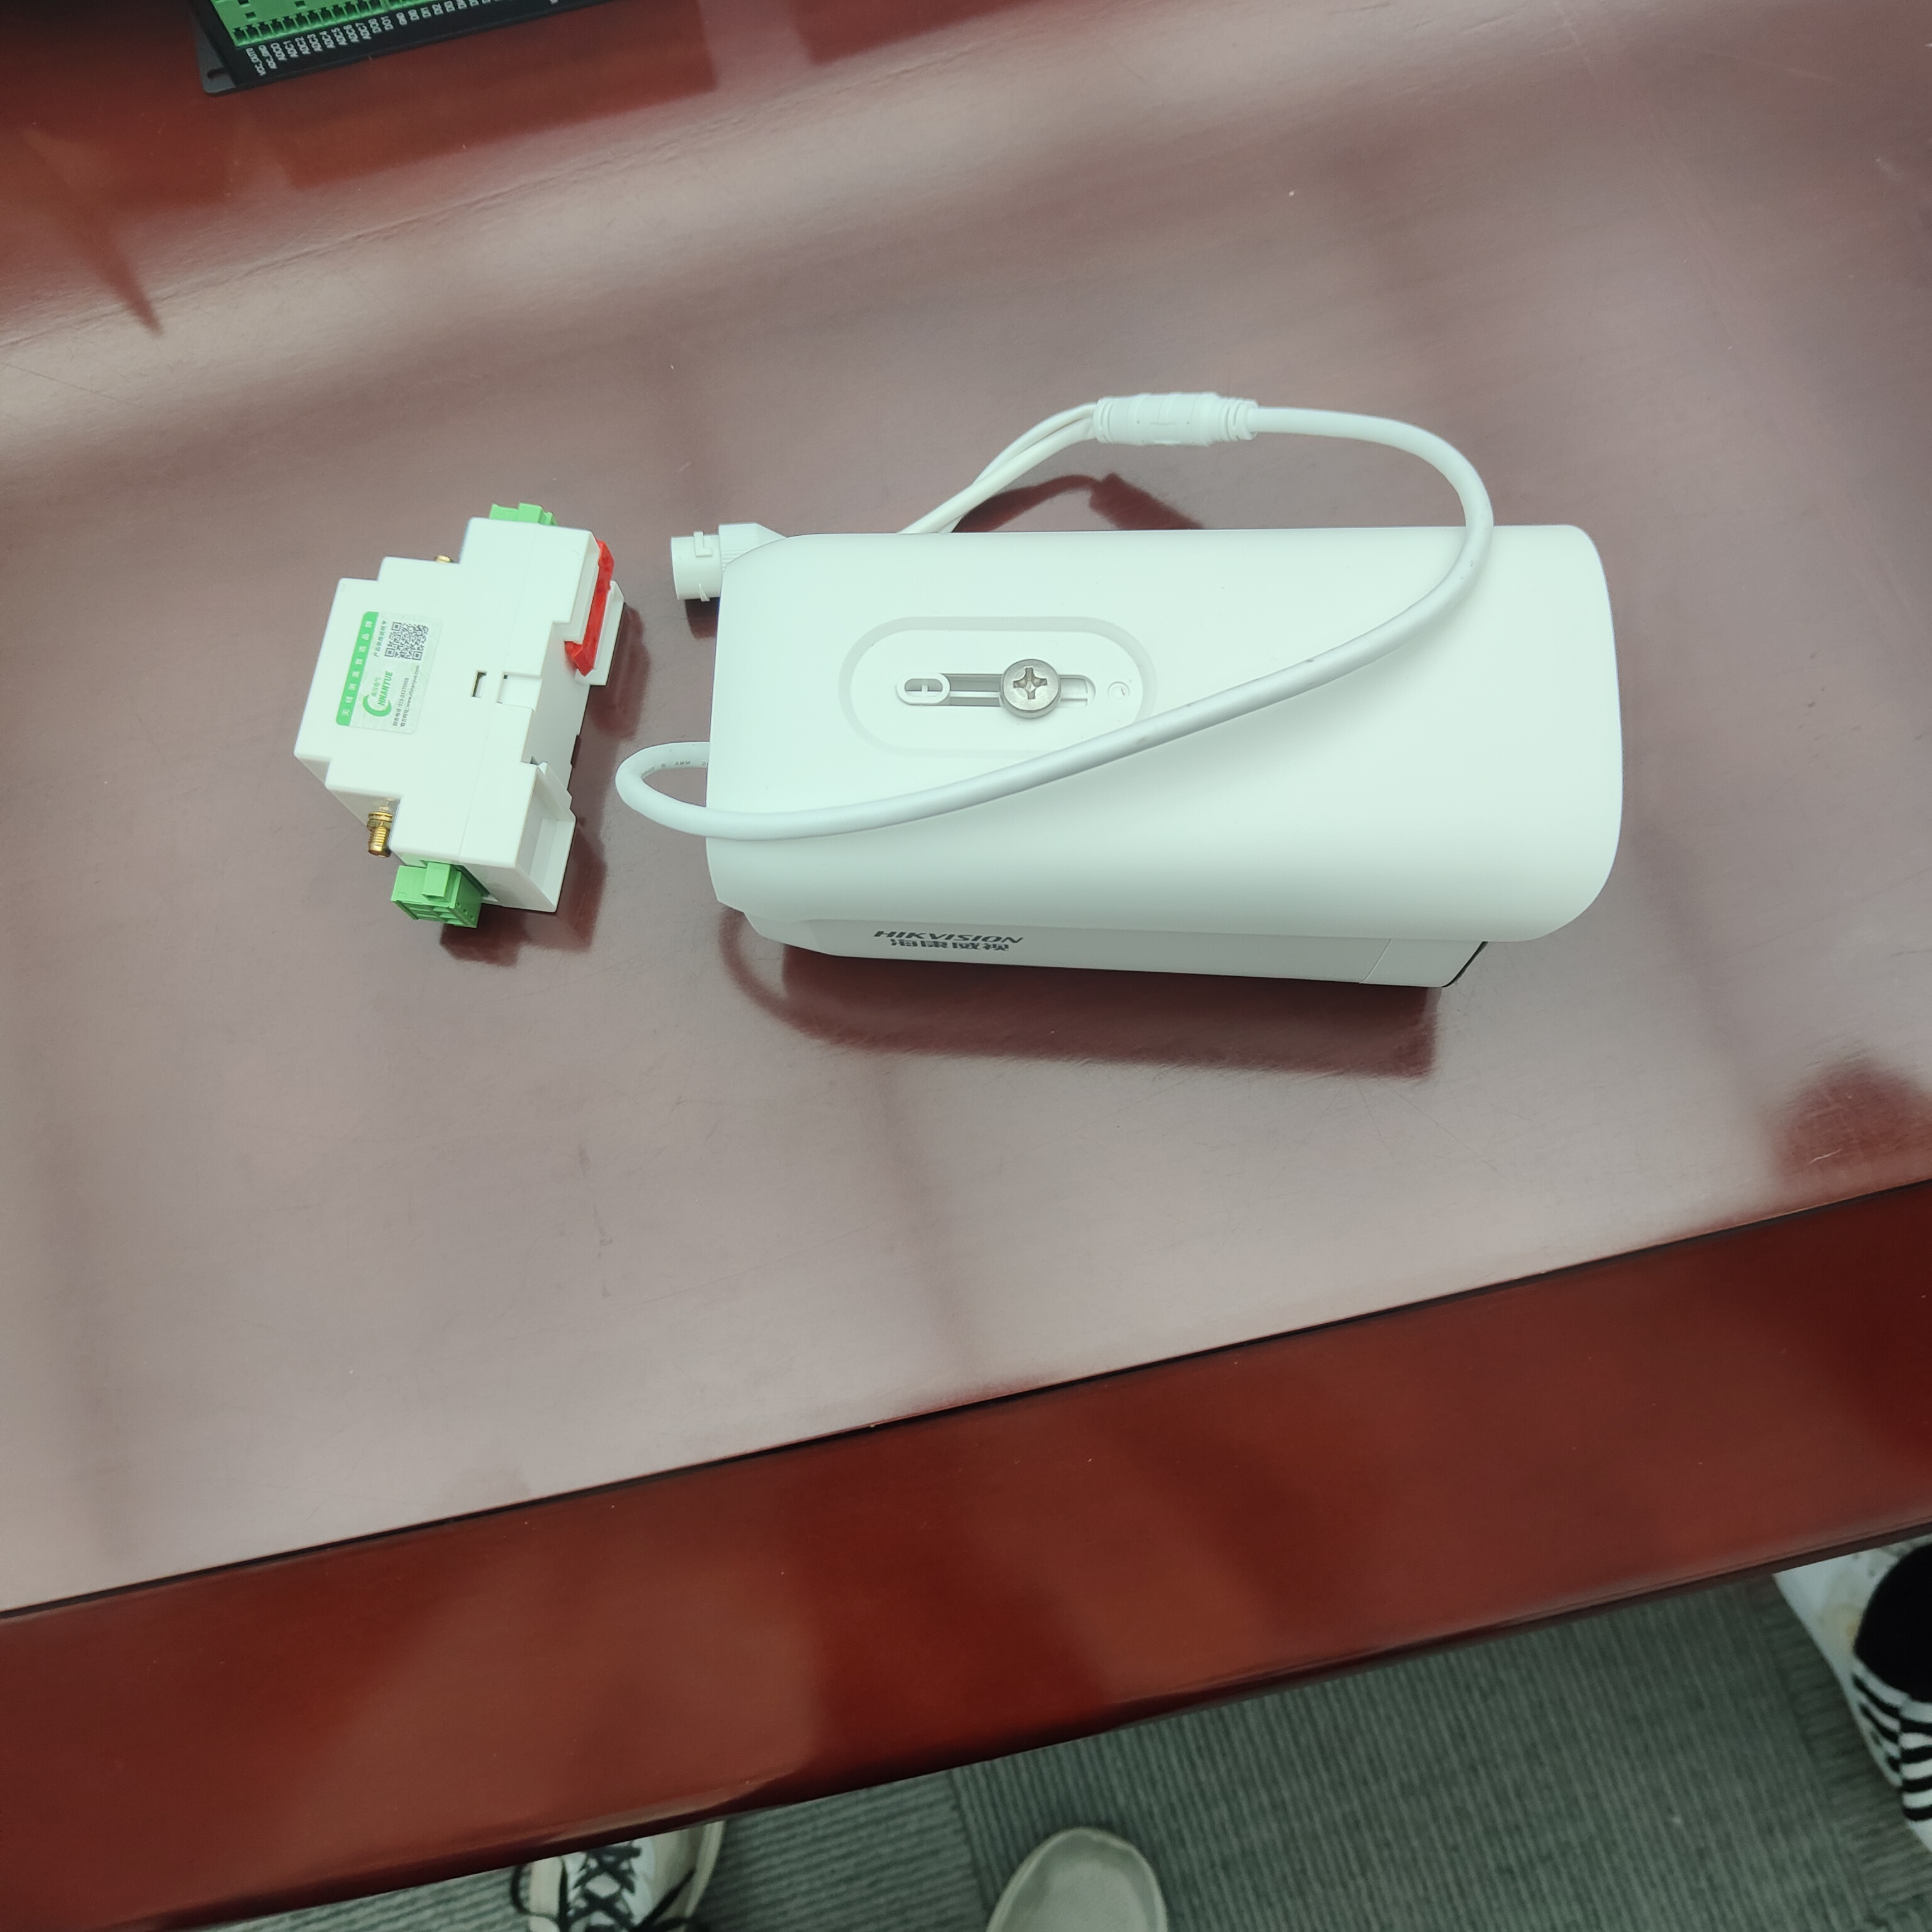dgjs: (290, 476, 637, 968)
hkws: (685, 433, 1654, 1044)
